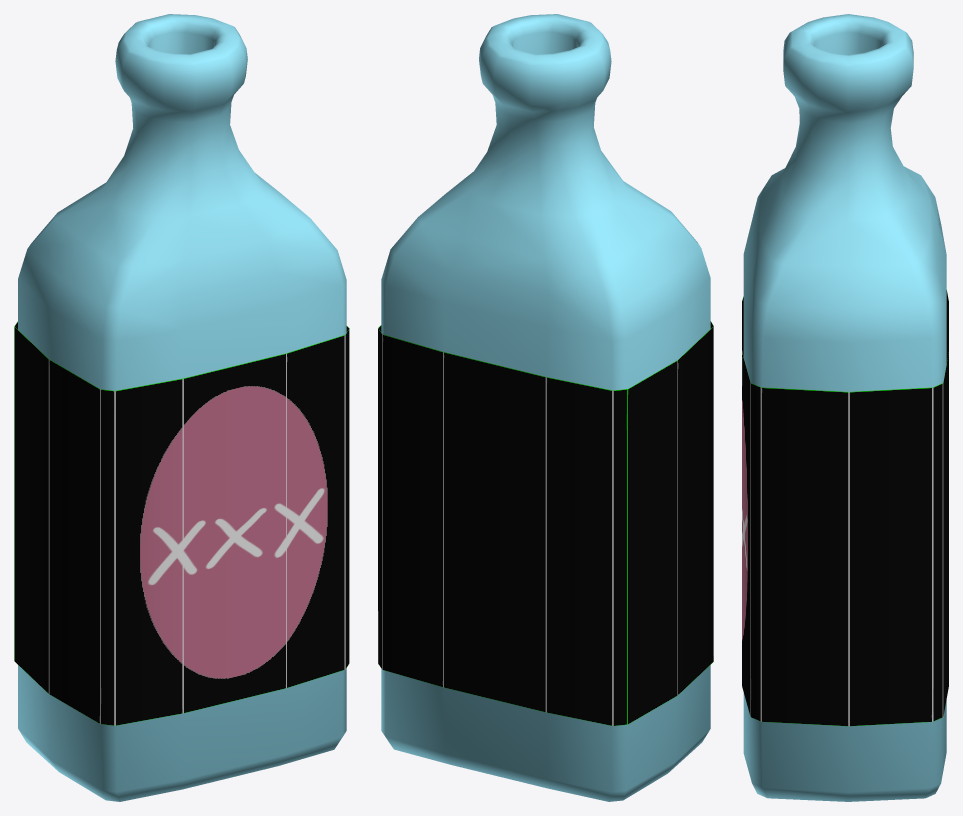
File: SM_Bouteille_01.FBX
The picture shows the model from 3 angles, left to right: view 1: azimuth 30°, elevation 25°; view 2: azimuth 150°, elevation 25°; view 3: azimuth 270°, elevation 25°; orthographic projection.
Visible parts, largest first — view 1: Bouteille; view 2: Bouteille; view 3: Bouteille.
Boxes of the visible parts, <box> form: Bouteille: <box>14,14,349,801</box>; Bouteille: <box>378,14,713,801</box>; Bouteille: <box>742,14,948,801</box>.
Bounding box in the file's own units: 10.27 × 6.93 × 26.25.
